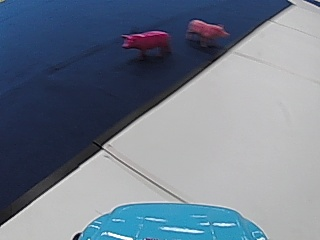pig: (120, 26, 171, 61), (183, 15, 229, 50)
